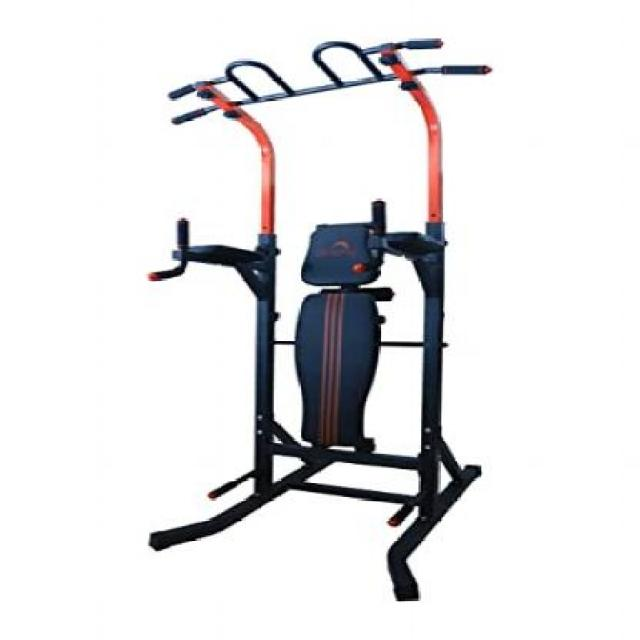chinning dipping: (154, 34, 494, 601)
